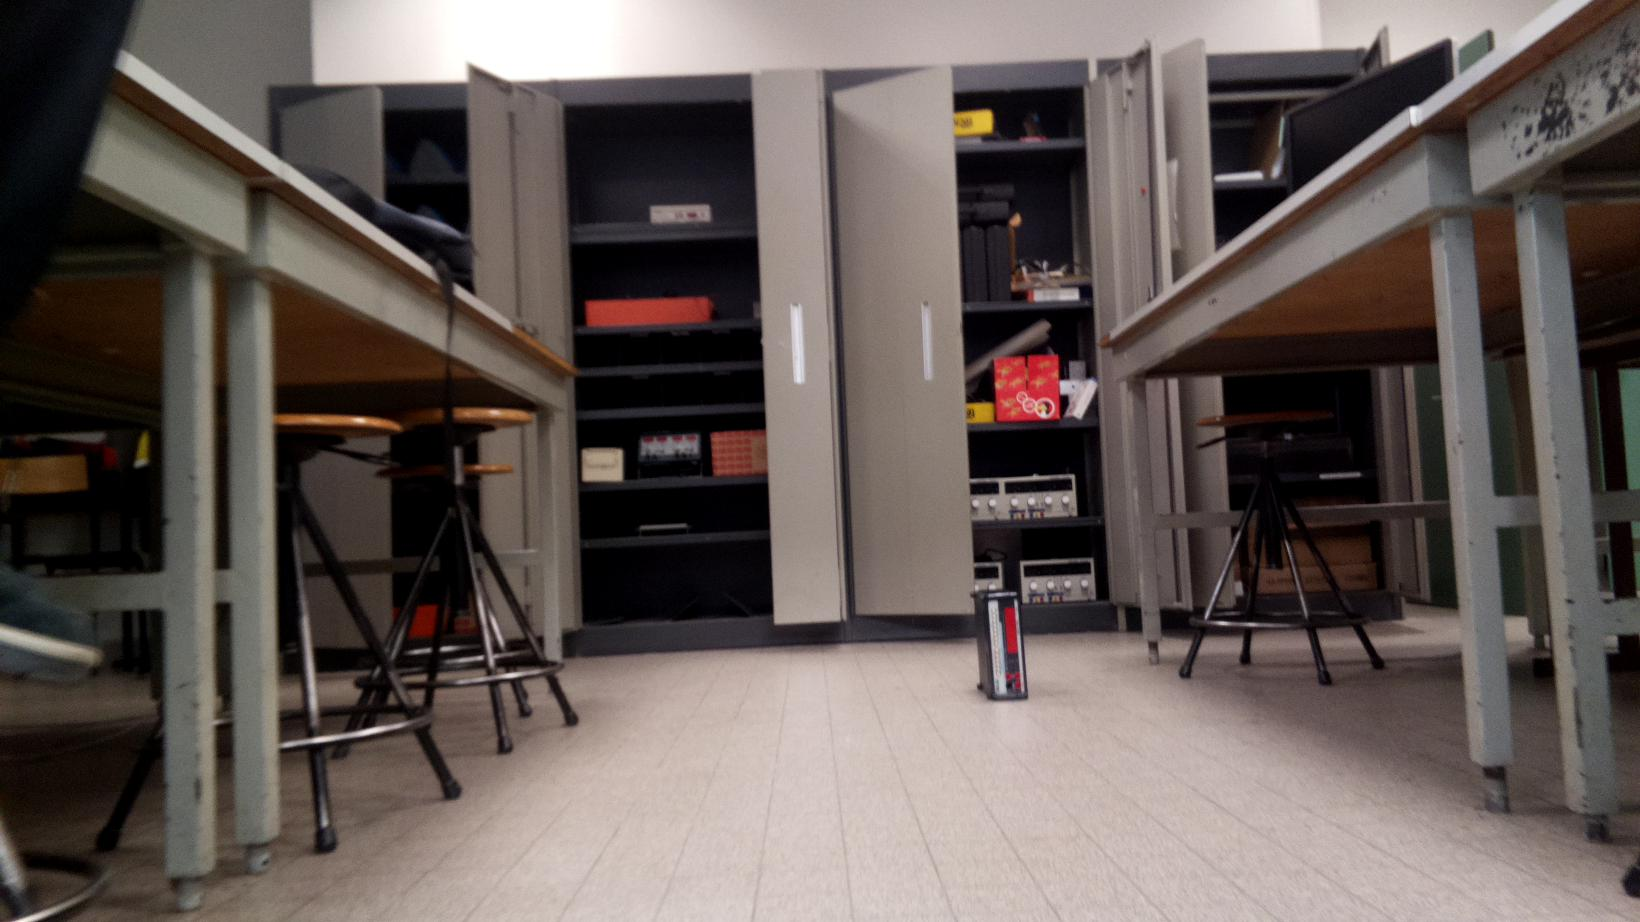medium: (969, 587, 1034, 699)
